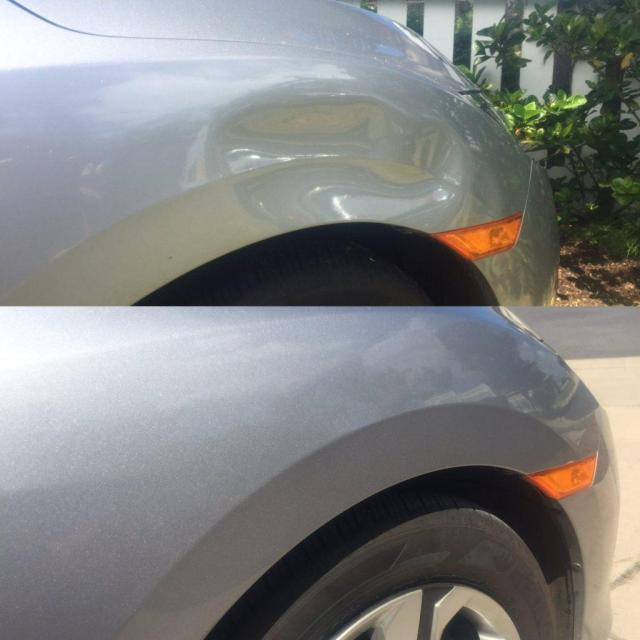dent: (202, 84, 480, 234)
